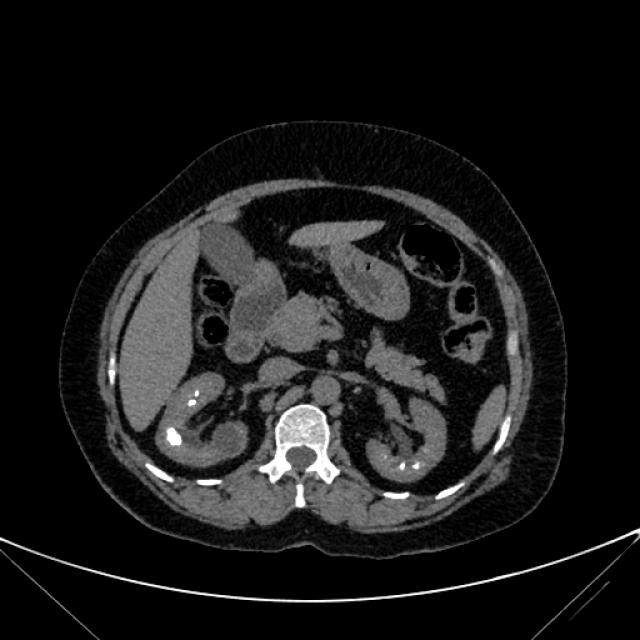kidney: (156, 372, 250, 469), (365, 383, 447, 485)
stone: (168, 425, 183, 449), (397, 460, 408, 473), (186, 400, 200, 407), (193, 390, 200, 399), (413, 463, 422, 470)
